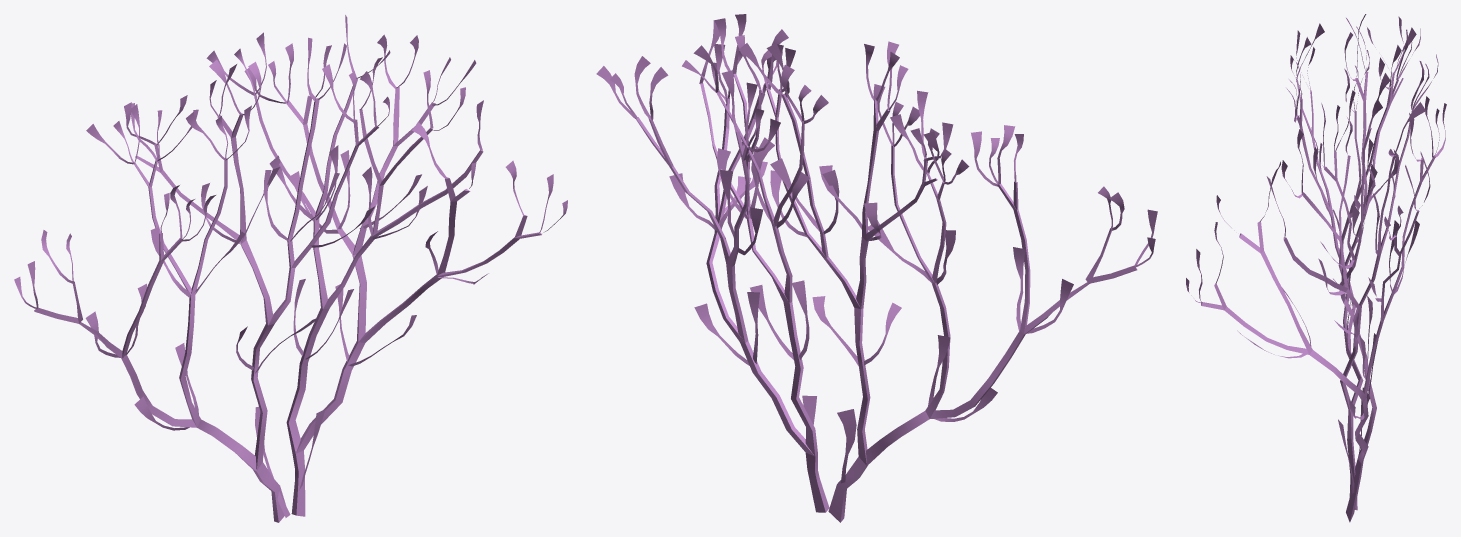
Rendered from coral_C_dense.fbx.
3 views of the same model, side by side, from view 1: azimuth 30°, elevation 25°; view 2: azimuth 150°, elevation 25°; view 3: azimuth 270°, elevation 25° (orthographic). The views are drawn at different scales.
Parts seen in each view (by area): view 1: coral_C_dense_twigs, coral_C_dense_flowers; view 2: coral_C_dense_twigs, coral_C_dense_flowers; view 3: coral_C_dense_twigs, coral_C_dense_flowers.
Boxes of the visible parts, x1=… form: coral_C_dense_twigs: x1=34, y1=79, x2=541, y2=522; coral_C_dense_flowers: x1=14, y1=15, x2=567, y2=517; coral_C_dense_twigs: x1=635, y1=73, x2=1137, y2=522; coral_C_dense_flowers: x1=596, y1=14, x2=1157, y2=483; coral_C_dense_twigs: x1=1201, y1=71, x2=1435, y2=522; coral_C_dense_flowers: x1=1186, y1=14, x2=1446, y2=497.
Size of the model in its own units: 184 by 165 by 83.01.
